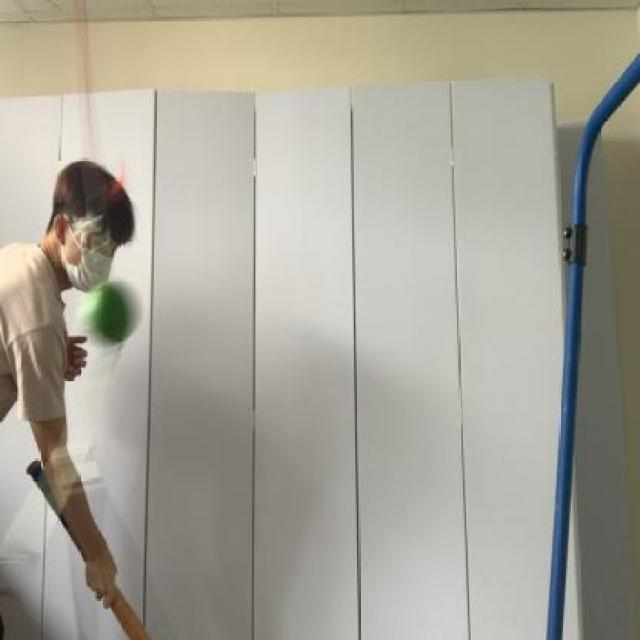baseball: (85, 281, 142, 350)
